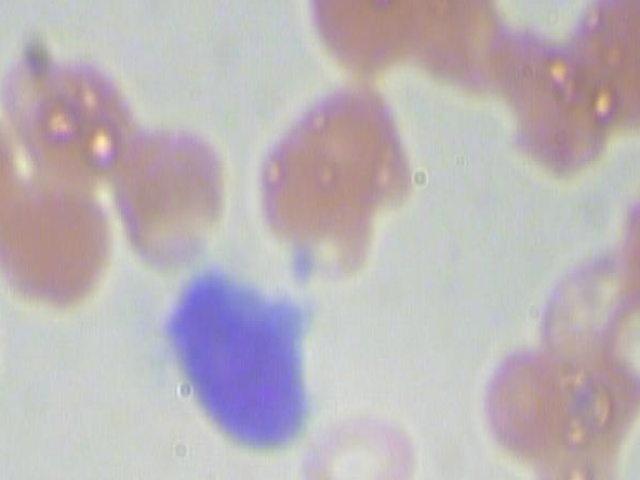Platelets: (284, 241, 317, 291)
RBC: (256, 99, 377, 256), (109, 117, 230, 273), (0, 163, 119, 321), (504, 28, 618, 178), (481, 333, 573, 466), (557, 0, 640, 147), (299, 0, 425, 89), (297, 413, 418, 480)
WBC: (156, 266, 315, 454)
